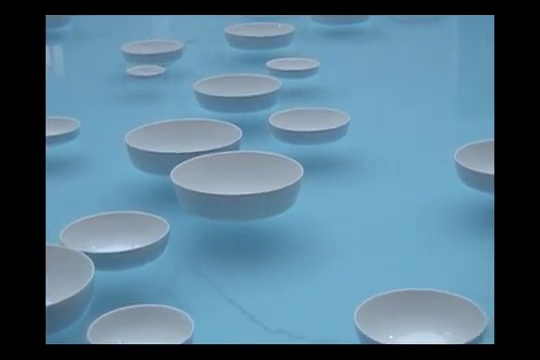bowl: (170, 150, 304, 220), (353, 287, 488, 345), (124, 119, 243, 176), (59, 210, 171, 268), (86, 304, 196, 344), (45, 242, 96, 325), (193, 74, 281, 112), (269, 107, 351, 143), (454, 139, 493, 193), (224, 23, 295, 50), (121, 39, 185, 65), (265, 58, 321, 79), (45, 116, 81, 142), (125, 65, 167, 79)
